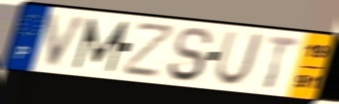M: (71, 16, 132, 74)
S: (165, 26, 215, 84)
T: (263, 34, 302, 92)
U: (212, 30, 266, 87)
V: (46, 12, 91, 70)
Z: (121, 23, 179, 80)
